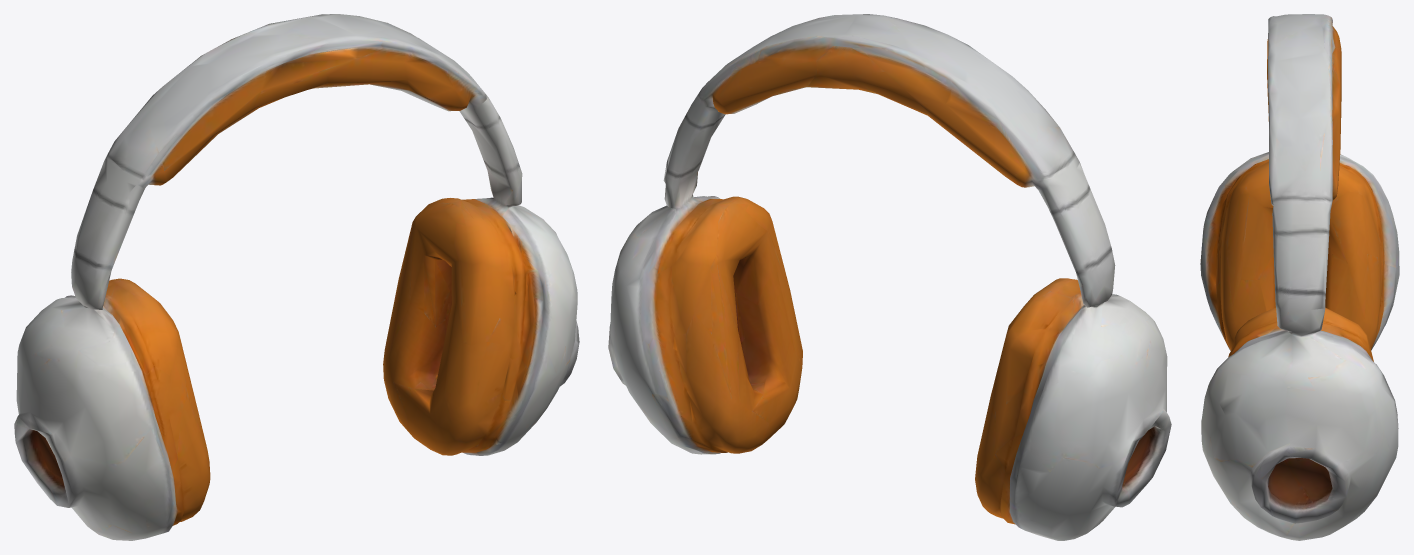
Rendered from headphones.glb.
The picture shows the model from 3 angles, left to right: view 1: azimuth 30°, elevation 25°; view 2: azimuth 150°, elevation 25°; view 3: azimuth 270°, elevation 25°; orthographic projection. The views are drawn at different scales.
Bounding box in the file's own units: 2 × 1.69 × 0.7222.
Materials: 1 (1 with a texture image).
